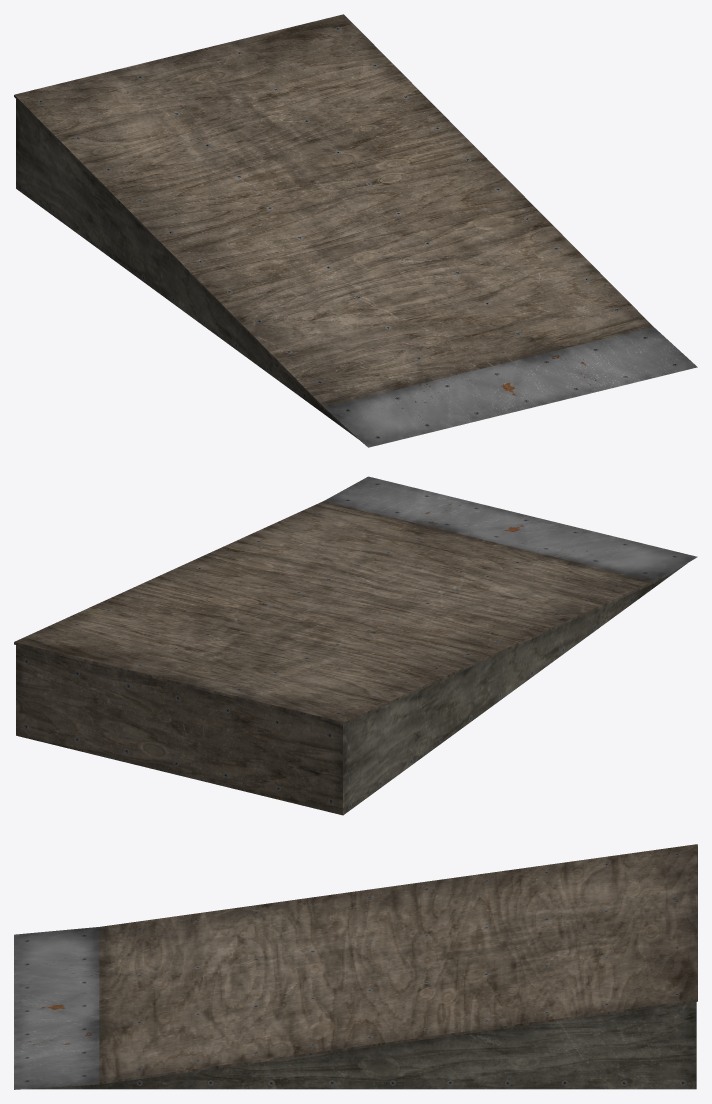
The picture shows the model from 3 angles, top to bottom: view 1: azimuth 30°, elevation 25°; view 2: azimuth 150°, elevation 25°; view 3: azimuth 270°, elevation 25°; orthographic projection. The views are drawn at different scales.
Visible parts, largest first — view 1: KICKER; view 2: KICKER; view 3: KICKER.
Part boxes in pixels (left/top/right/bottom): KICKER: left=14, top=14, right=697, bottom=447; KICKER: left=14, top=476, right=697, bottom=815; KICKER: left=14, top=844, right=697, bottom=1089.
Bounding box in the file's own units: 1.4 × 0.3807 × 2.61.
Materials: 1 (1 with a texture image).
